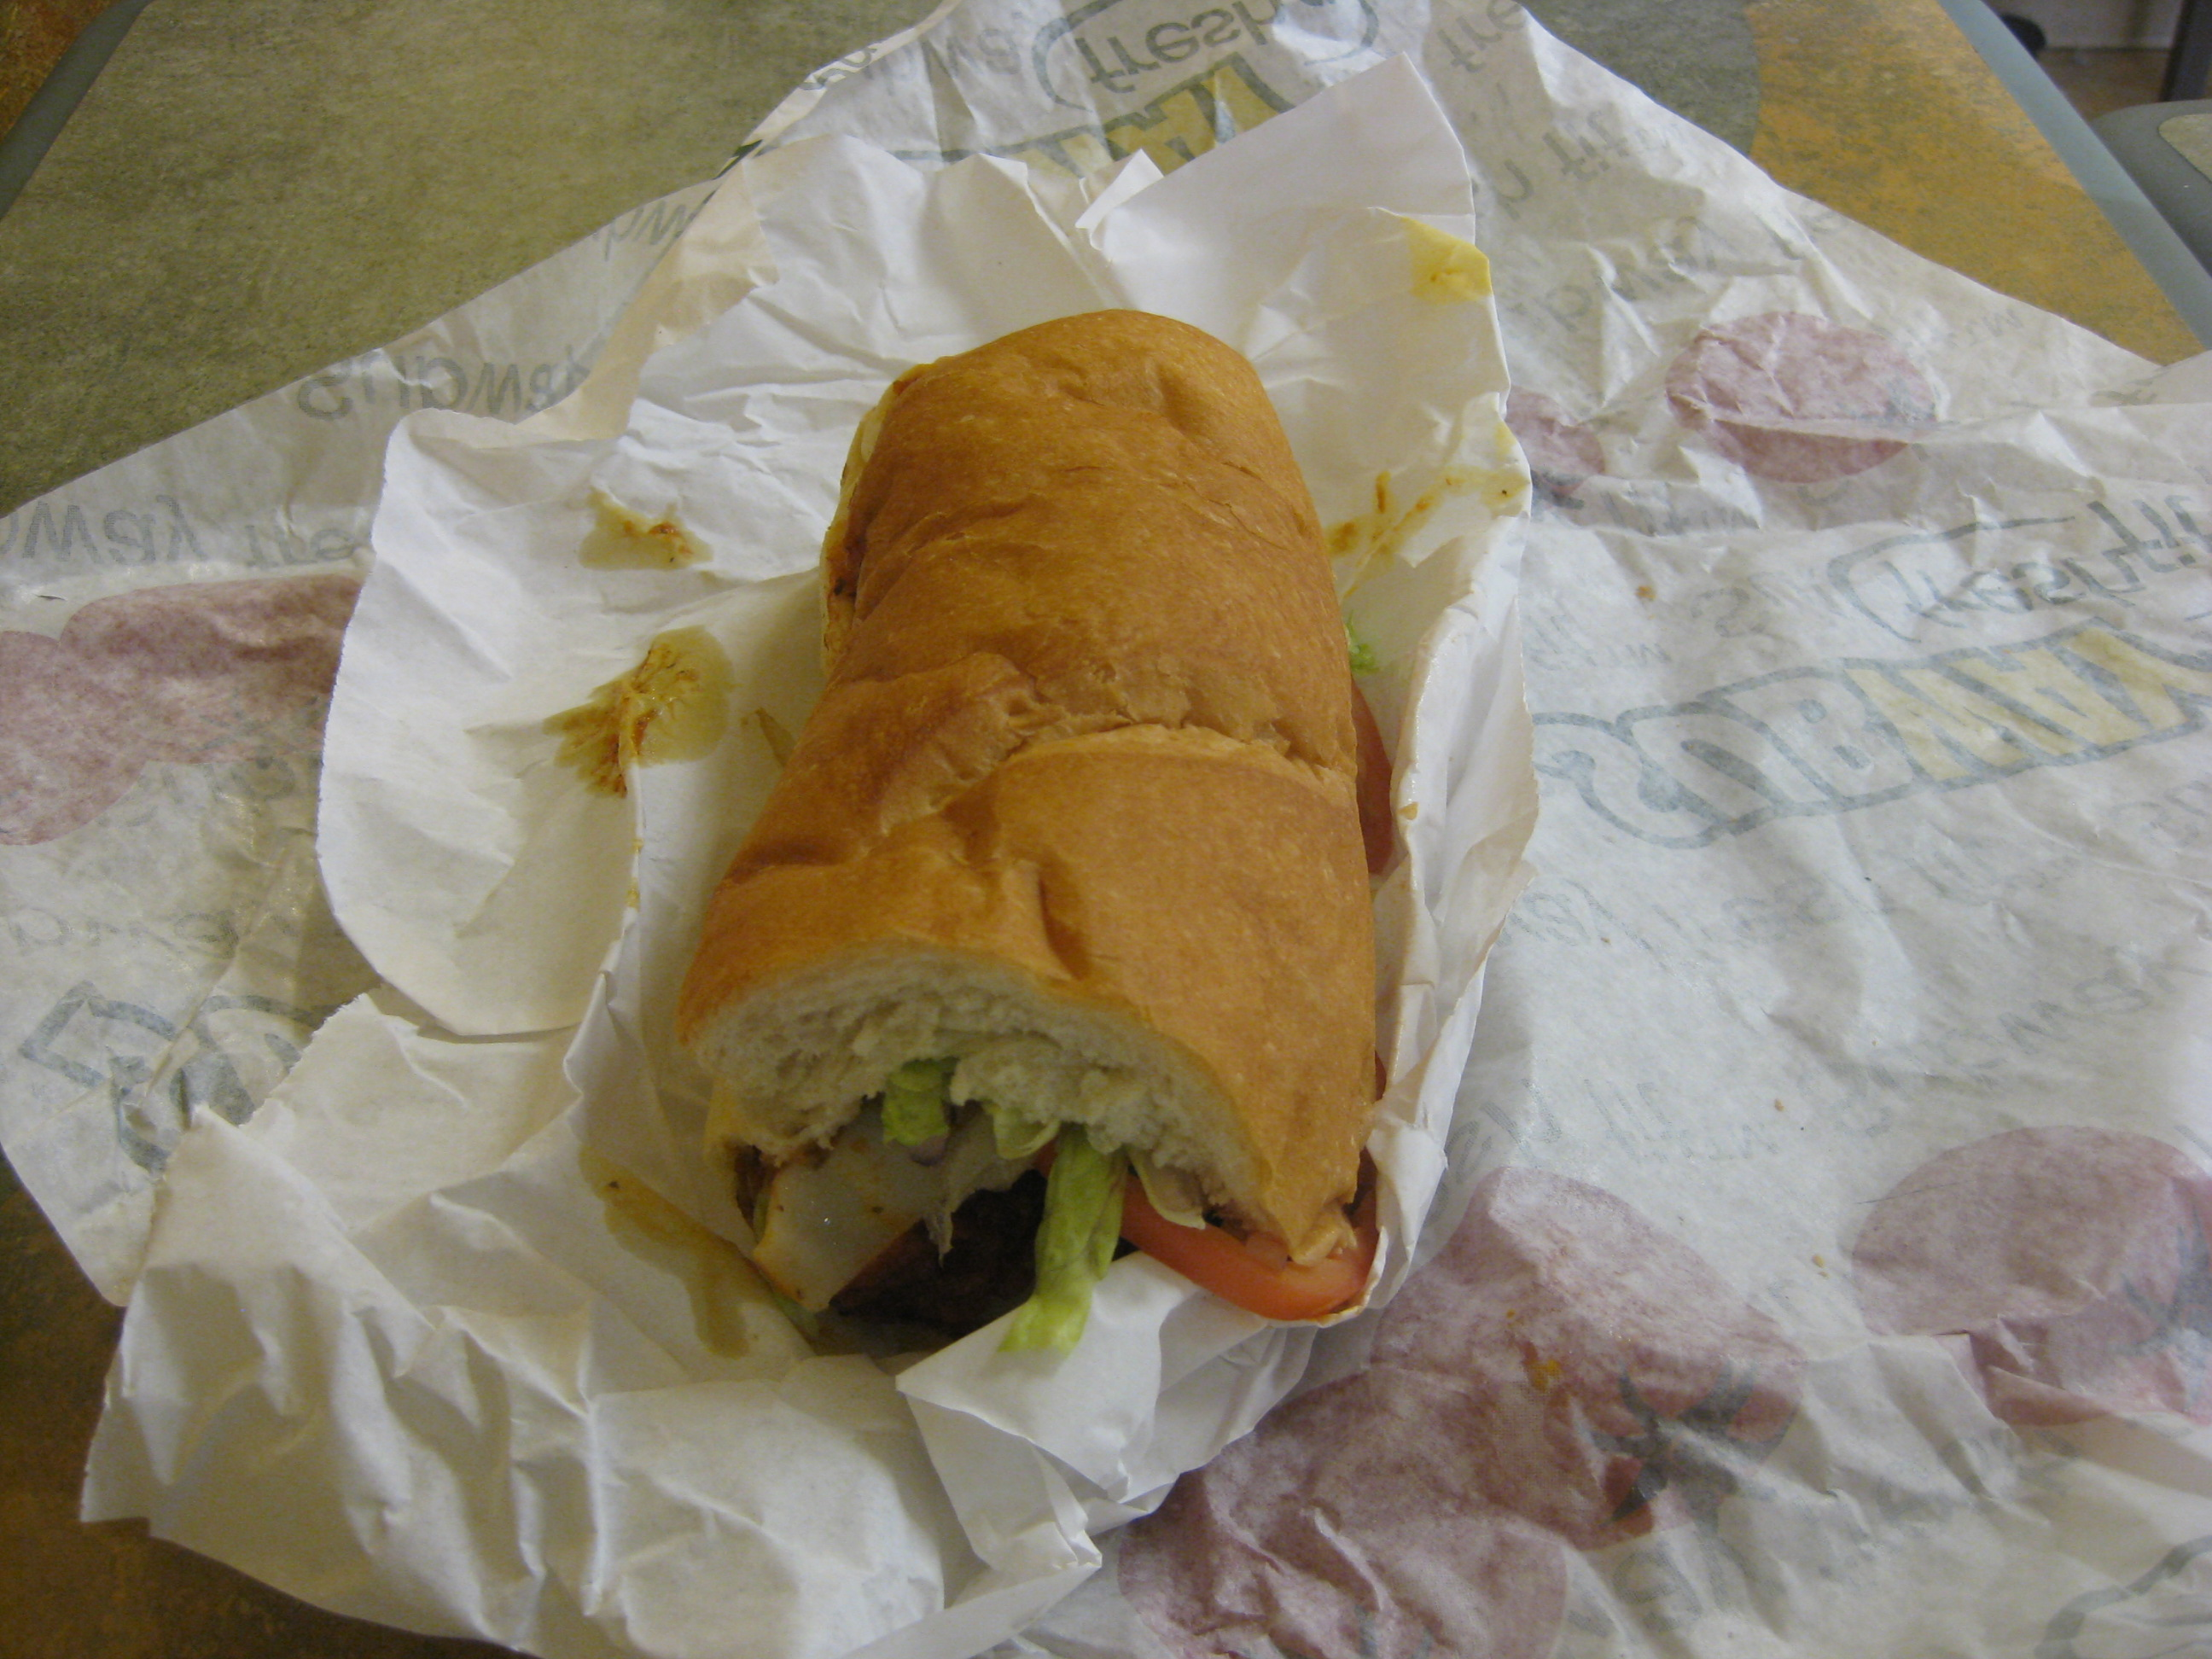sub: (707, 300, 1397, 1385)
